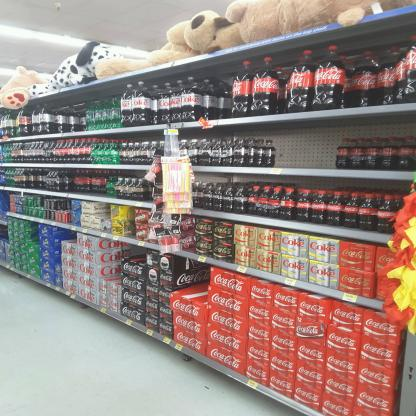empty_space: (241, 119, 337, 169)
